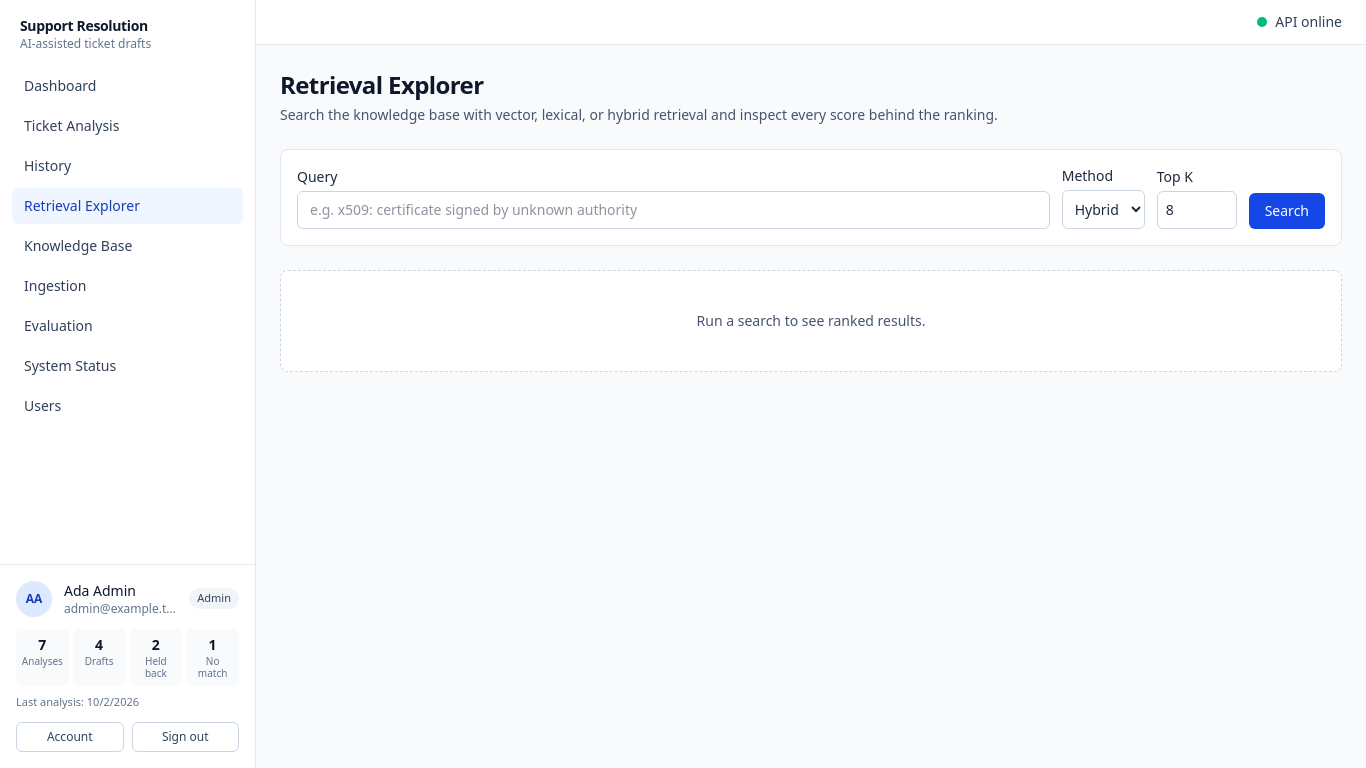
it: Retrieval Explorer › renders ranked results with score breakdowns and threshold state
In the field labelled "Query": x=673, y=210 [297,191,1050,229], type "x509"
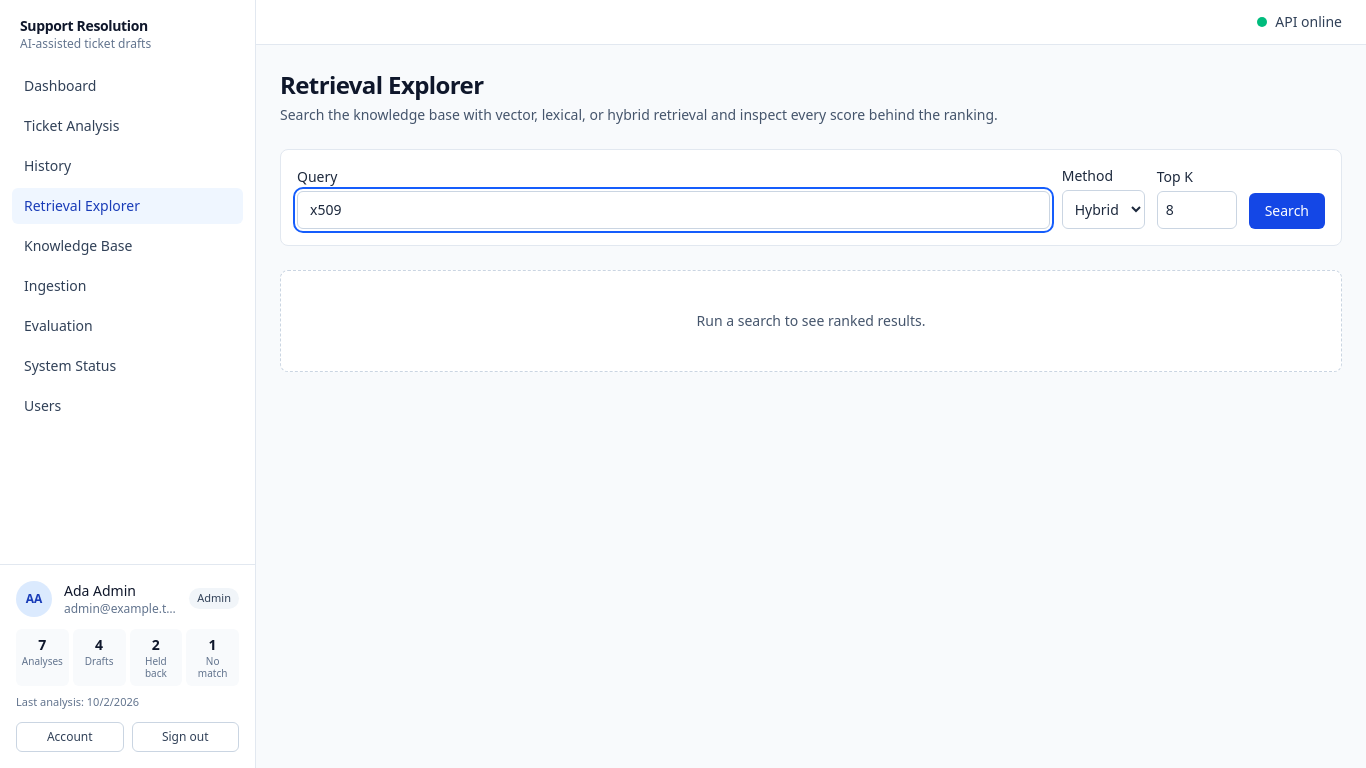
Click the button "Search": x=1287, y=211 [1249,193,1325,229]
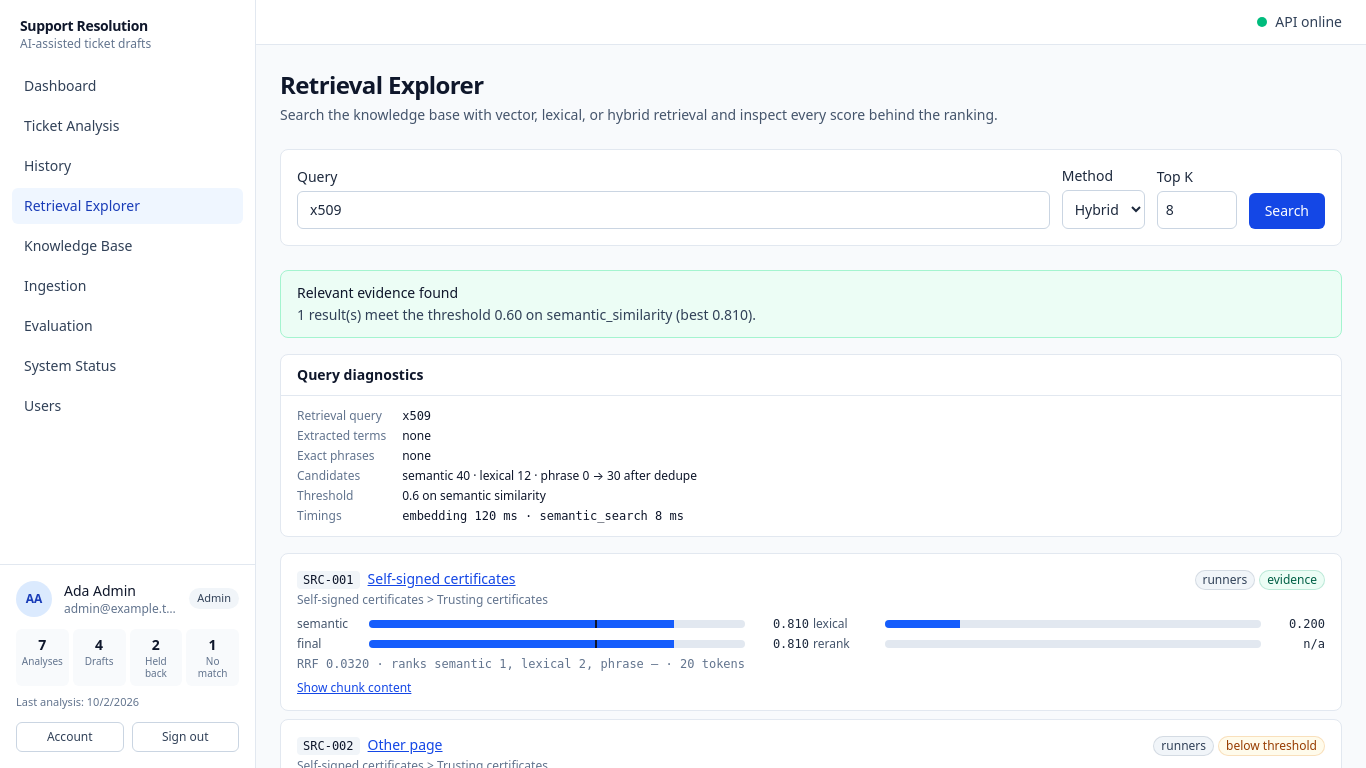
Expected: the text "Relevant evidence found" is shown, [297,283,458,302]
Expected: the text "below threshold" is shown, [1218,736,1325,756]
Click the button "Show chunk content": x=354, y=688 [297,680,411,696]
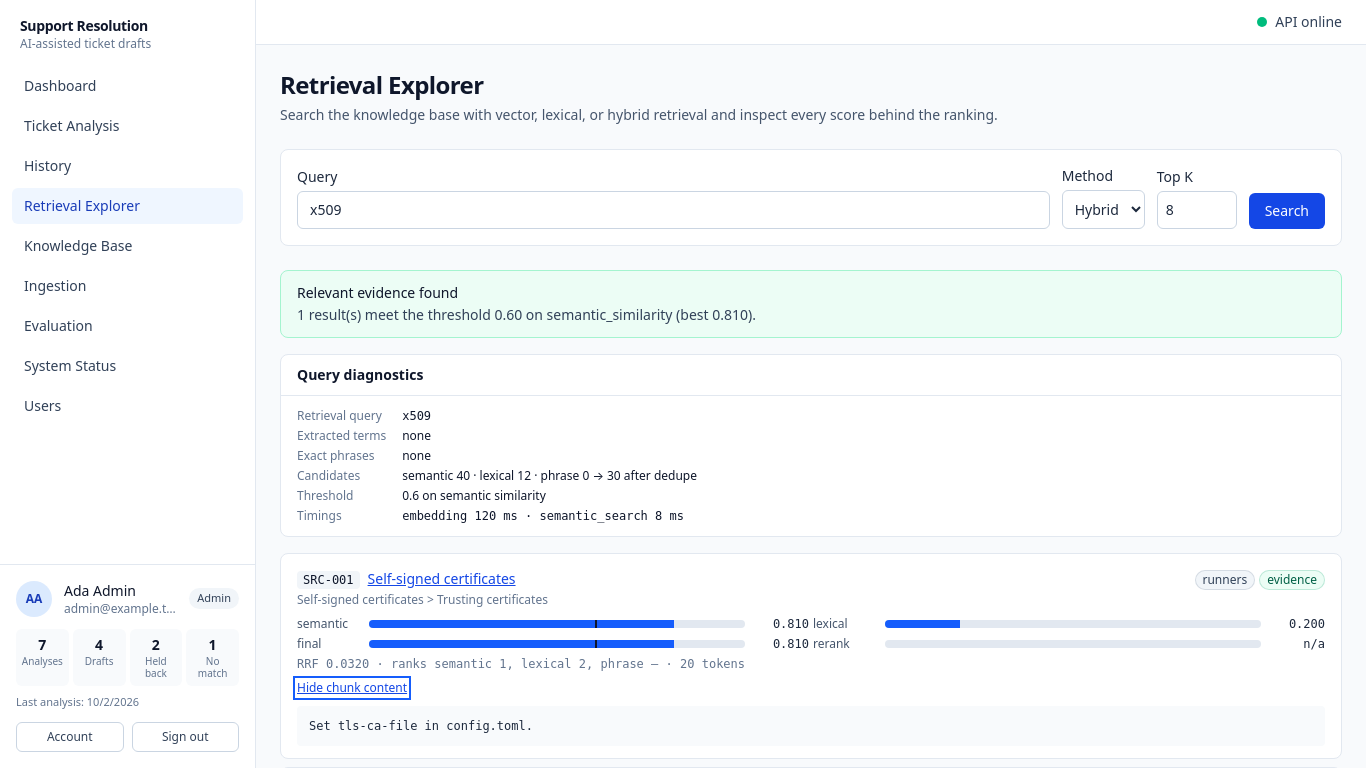
Expected: the text "Set tls-ca-file in config.toml." is shown, [297,706,1325,746]
